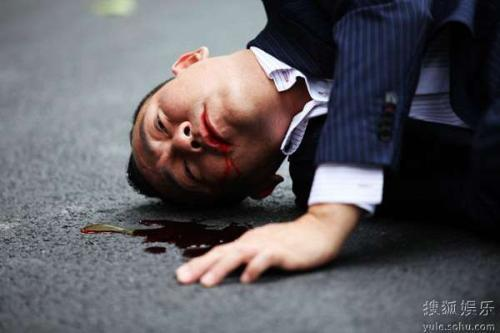Fall-Detected: (121, 0, 486, 306)
